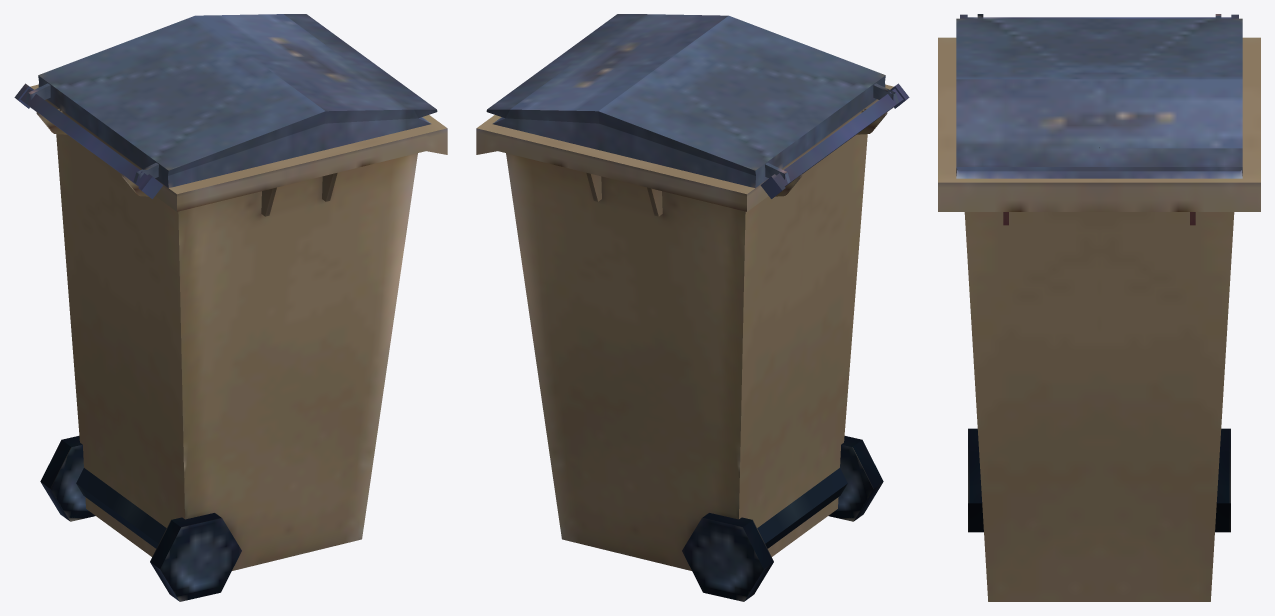
Rendered from Urban_TrashCan_Model.fbx.
3 views of the same model, side by side, from view 1: azimuth 30°, elevation 25°; view 2: azimuth 150°, elevation 25°; view 3: azimuth 270°, elevation 25° (orthographic). The views are drawn at different scales.
Visible parts, largest first — view 1: Urban_TrashCan_Mesh; view 2: Urban_TrashCan_Mesh; view 3: Urban_TrashCan_Mesh.
Boxes of the visible parts, x1=… form: Urban_TrashCan_Mesh: x1=14, y1=14, x2=447, y2=601; Urban_TrashCan_Mesh: x1=476, y1=14, x2=909, y2=601; Urban_TrashCan_Mesh: x1=938, y1=14, x2=1260, y2=601.
Bounding box in the file's own units: 0.9058 × 1.35 × 0.7794.
